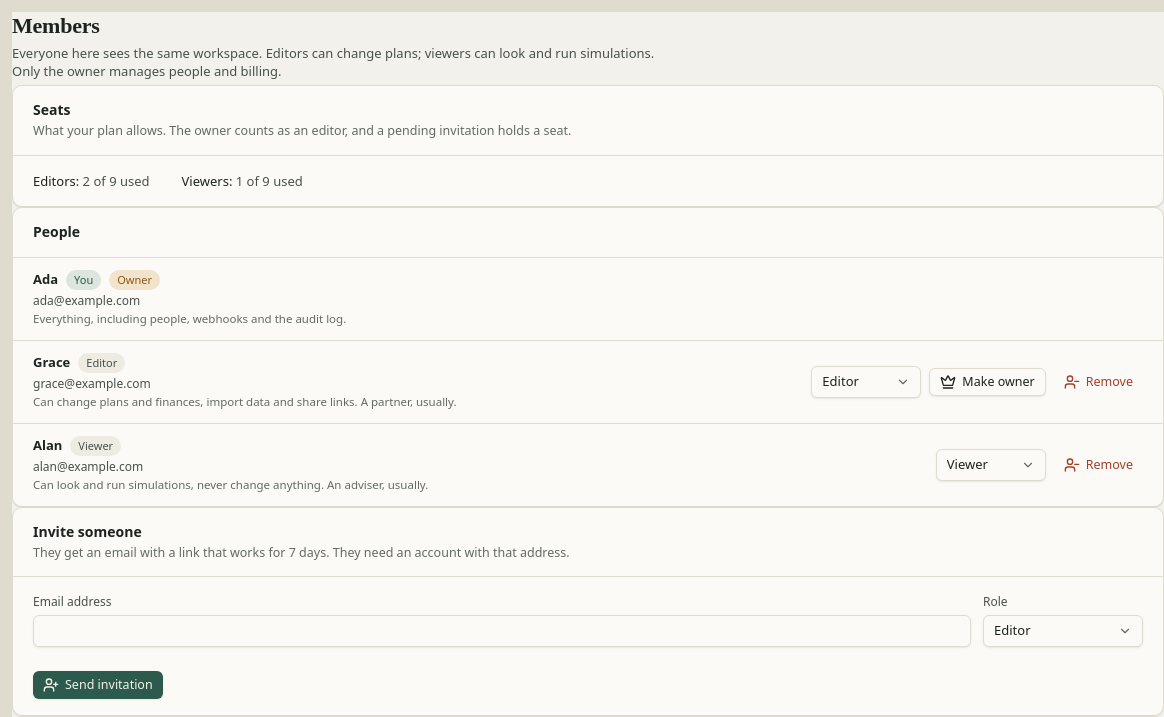
Test: members and invitations › shows the server's seat-limit answer when it disagrees
Check: the text "Grace" is shown, box [33,353,70,371]
Type "new@example.com" into the field labelled "Email address" at (502, 631), box [33,615,971,647]
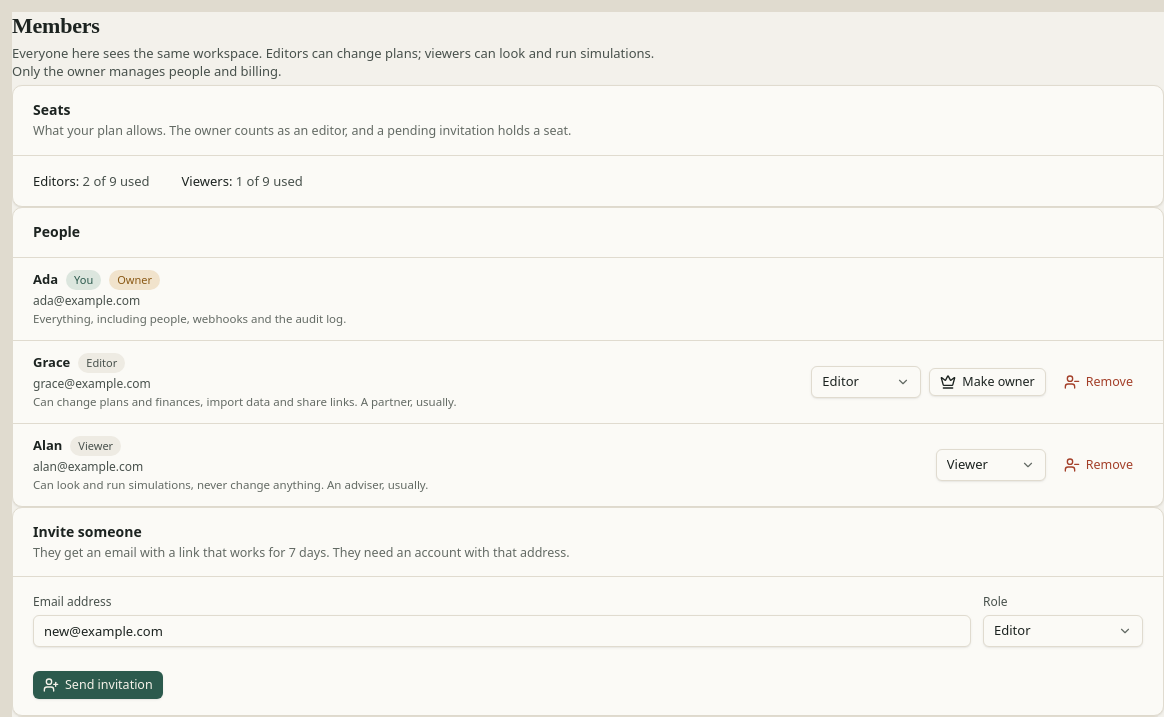
Click the button "Send invitation" at (98, 685), box [33,671,163,699]
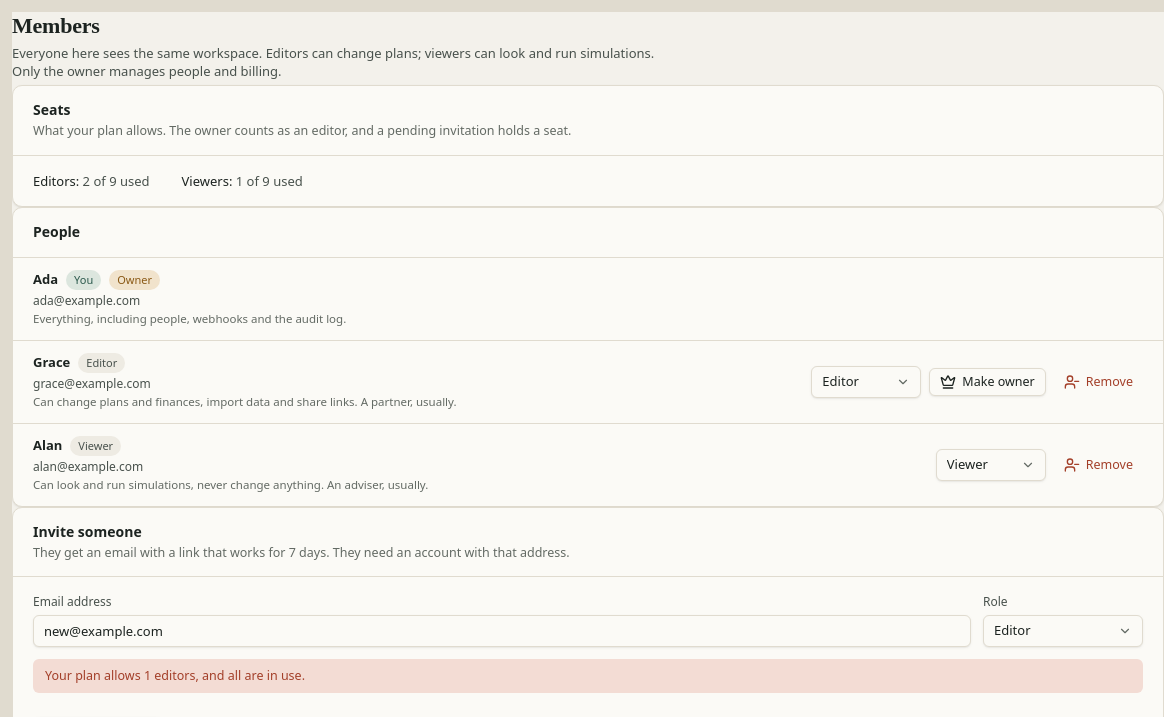
Check: the text "Your plan allows 1 editors, and all are in use." is shown, box [33,659,1143,693]
